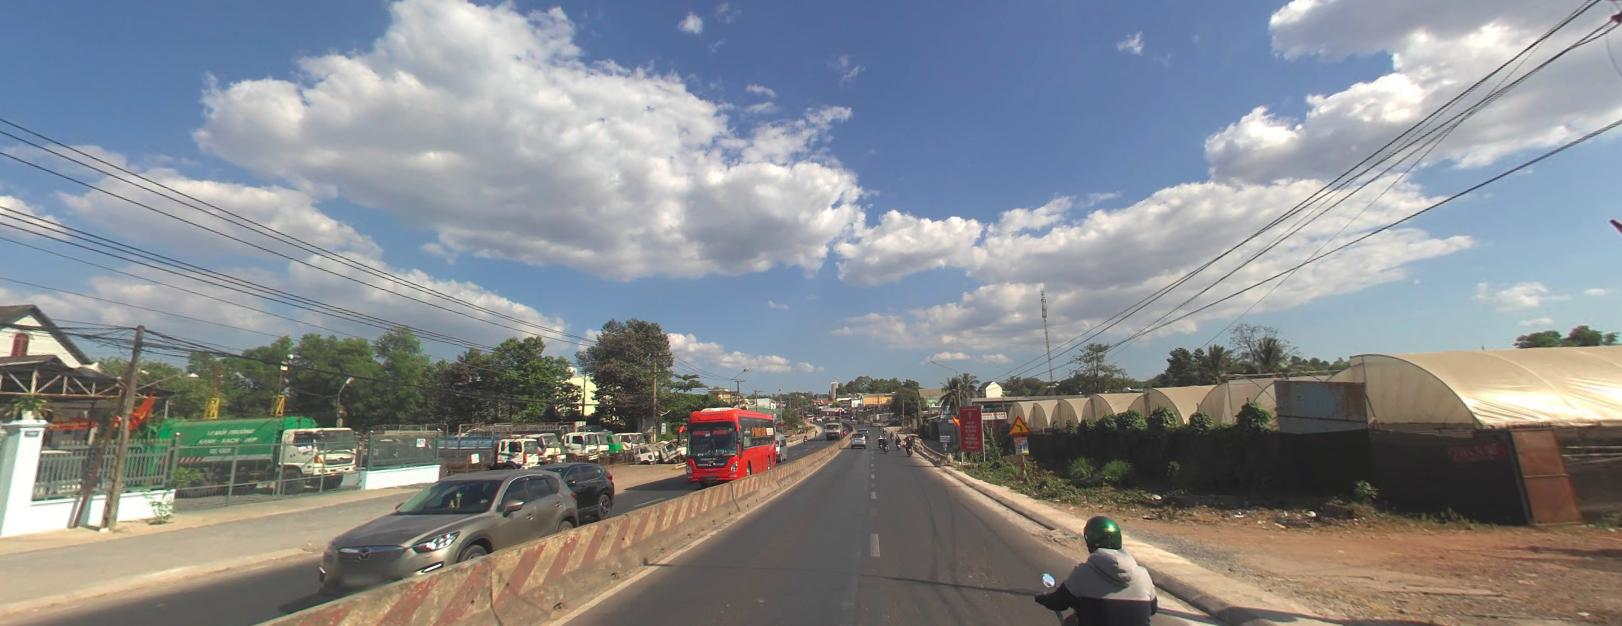Nguy hiem: (1008, 414, 1030, 433), (1008, 413, 1030, 432), (1009, 414, 1029, 432)
